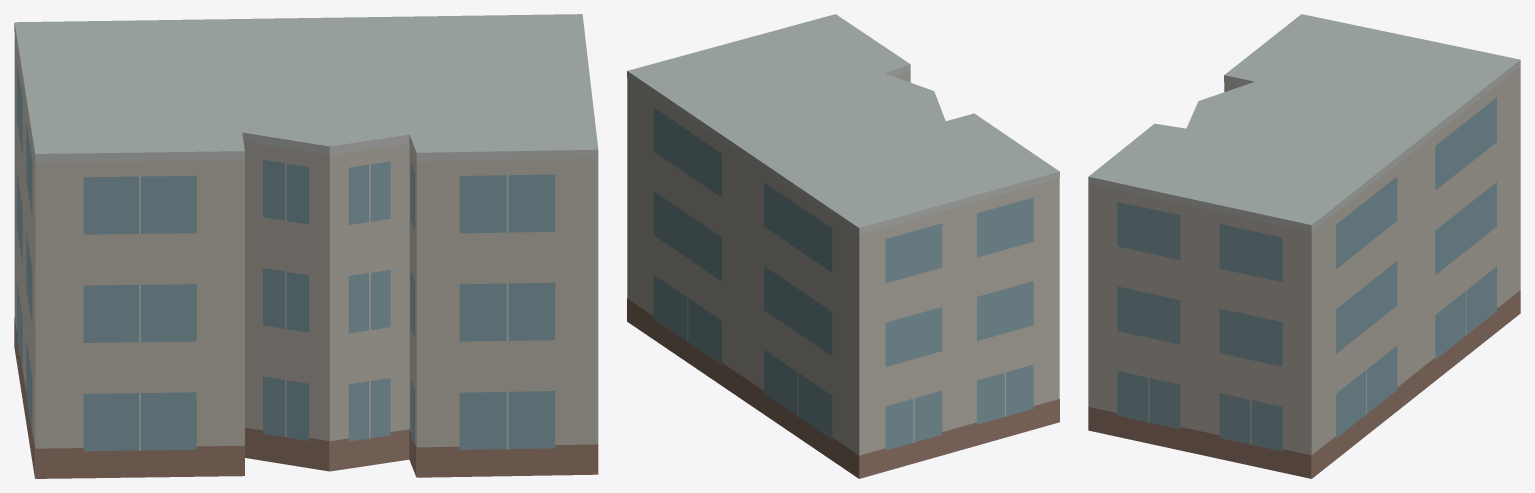
The model's file is survey-upis-33040760.glb.
3 renders of one model, left to right at view 1: azimuth 30°, elevation 25°; view 2: azimuth 150°, elevation 25°; view 3: azimuth 270°, elevation 25°, orthographic. The views are drawn at different scales.
Parts seen in each view (by area): view 1: survey-upis-33040760.tmp; view 2: survey-upis-33040760.tmp; view 3: survey-upis-33040760.tmp.
Boxes of the visible parts, x1=… form: survey-upis-33040760.tmp: x1=14, y1=14, x2=598, y2=478; survey-upis-33040760.tmp: x1=627, y1=14, x2=1059, y2=478; survey-upis-33040760.tmp: x1=1088, y1=14, x2=1520, y2=478.
Bounding box in the file's own units: 16.34 × 9.15 × 14.13.
